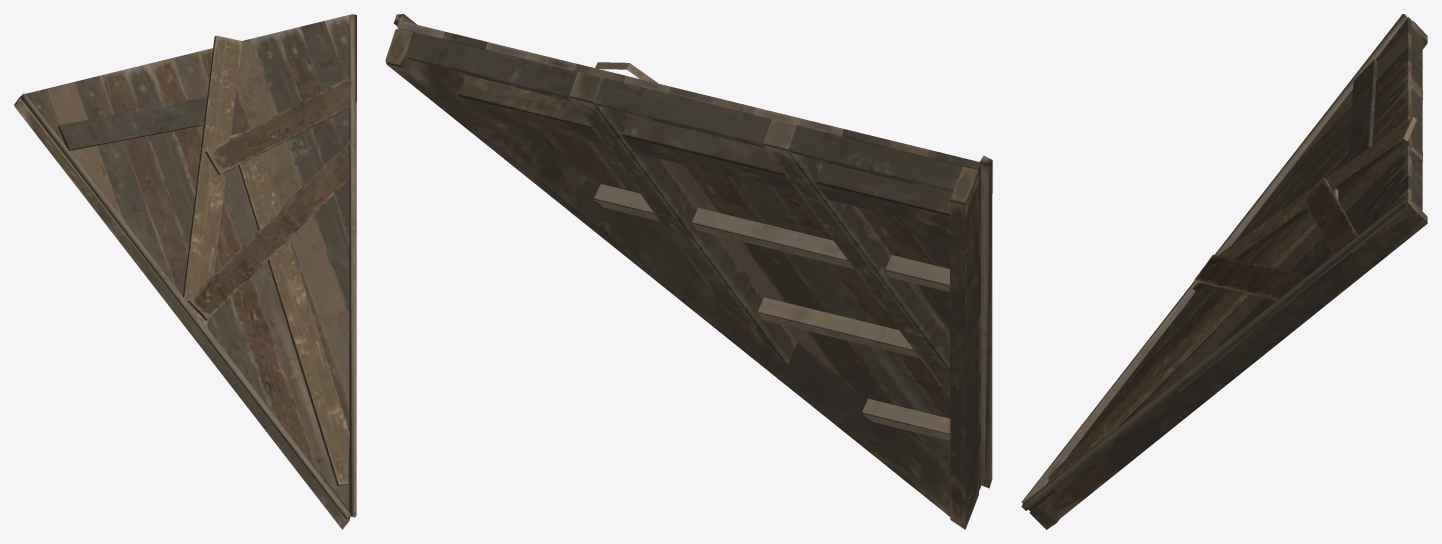
Rendered from roof.triangle.frontier.down.glb.
3 renders of one model, left to right at view 1: azimuth 30°, elevation 25°; view 2: azimuth 150°, elevation 25°; view 3: azimuth 270°, elevation 25°, orthographic. The views are drawn at different scales.
Visible parts, largest first — view 1: roof.triangle.down_LOD0; view 2: roof.triangle.down_LOD0; view 3: roof.triangle.down_LOD0.
Boxes of the visible parts, bbox=[...] form: roof.triangle.down_LOD0: bbox=[14, 14, 356, 529]; roof.triangle.down_LOD0: bbox=[385, 14, 992, 529]; roof.triangle.down_LOD0: bbox=[1021, 14, 1427, 529].
Bounding box in the file's own units: 3.08 × 3.25 × 2.77.
Materials: 1 (1 with a texture image).
